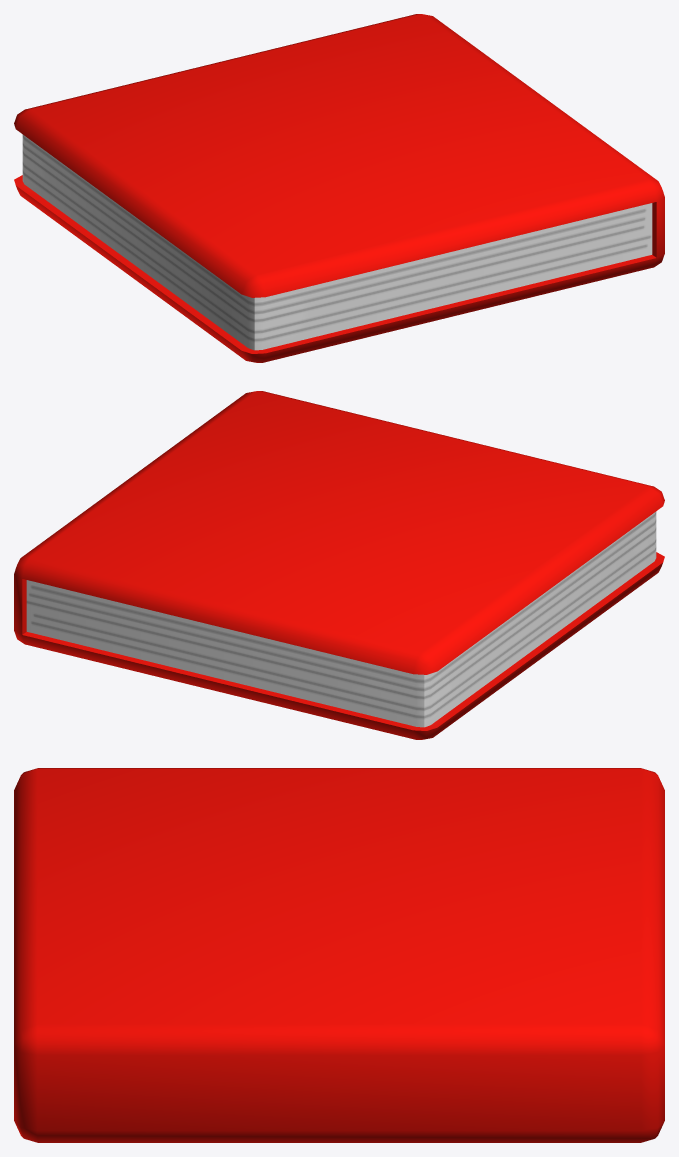
The model's file is Book.fbx.
The picture shows the model from 3 angles, top to bottom: view 1: azimuth 30°, elevation 25°; view 2: azimuth 150°, elevation 25°; view 3: azimuth 270°, elevation 25°; orthographic projection. The views are drawn at different scales.
Parts seen in each view (by area): view 1: Book; view 2: Book; view 3: Book.
Boxes of the visible parts, x1,y1,x2,y2 form: Book: (14,14,664,362); Book: (14,391,664,739); Book: (14,768,664,1142).
Size of the model in its own units: 2 by 0.4 by 2.
